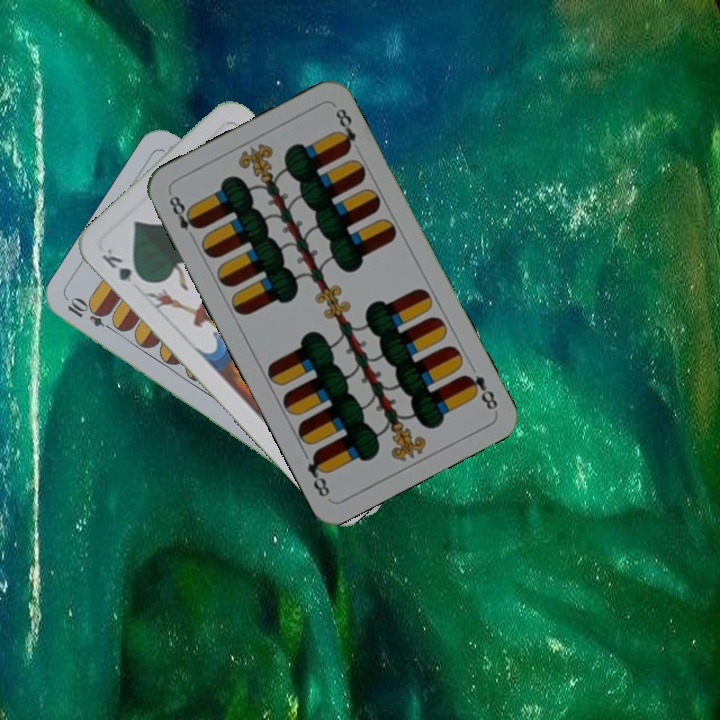E10: (63, 295, 119, 335)
E8: (165, 191, 203, 244), (460, 370, 501, 413)
GK: (97, 243, 148, 286)
